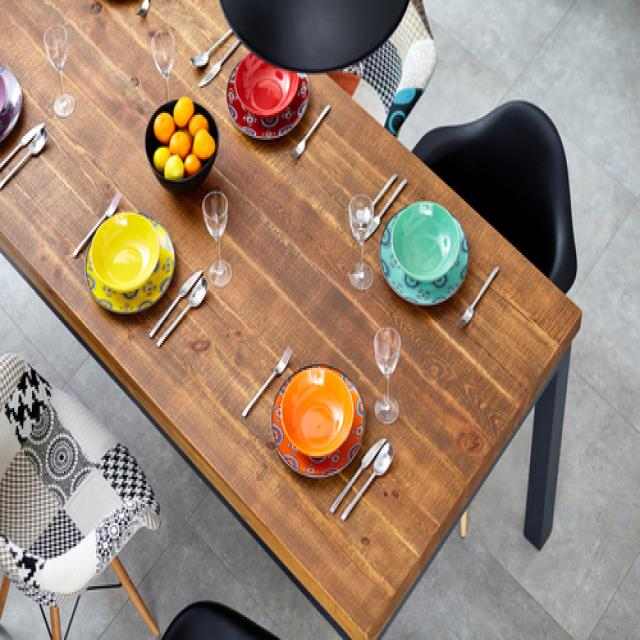obstacle: (8, 10, 591, 624)
